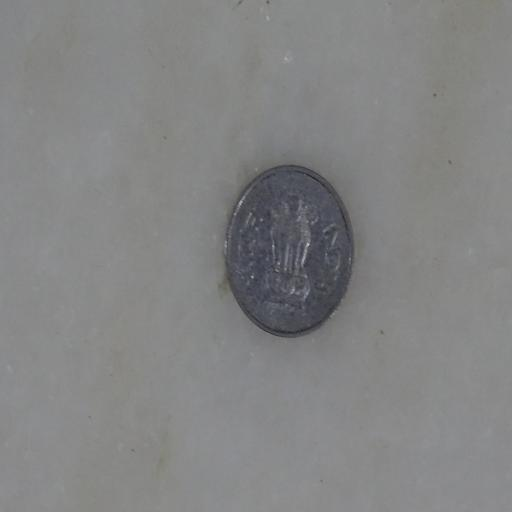rupee1: (221, 164, 354, 338)
